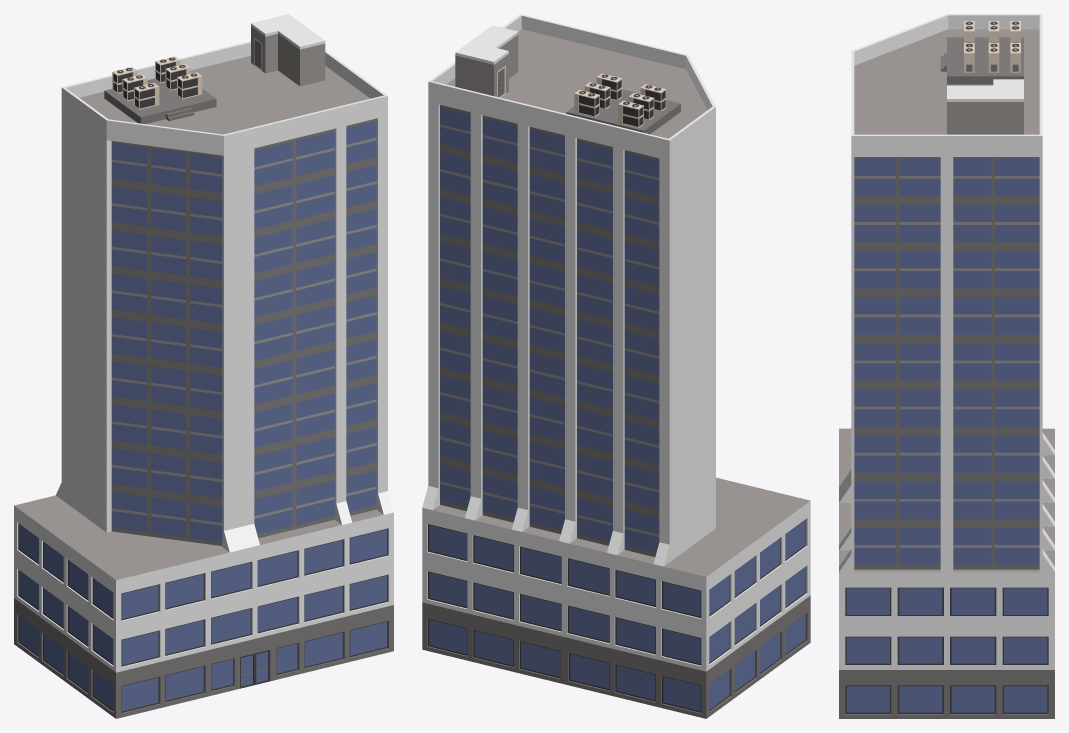
Rendered from building-office.fbx.
3 renders of one model, left to right at view 1: azimuth 30°, elevation 25°; view 2: azimuth 150°, elevation 25°; view 3: azimuth 270°, elevation 25°, orthographic. The views are drawn at different scales.
Parts seen in each view (by area): view 1: building-office; view 2: building-office; view 3: building-office.
Part boxes in pixels (x1,y1,x2,y2): building-office: [14, 14, 393, 718]; building-office: [422, 14, 810, 718]; building-office: [839, 14, 1054, 718].
Bounding box in the file's own units: 22 × 43.7 × 14.
